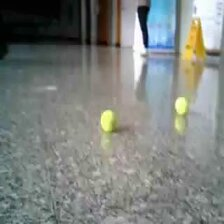tennis: (100, 110, 118, 133), (175, 97, 188, 115)
